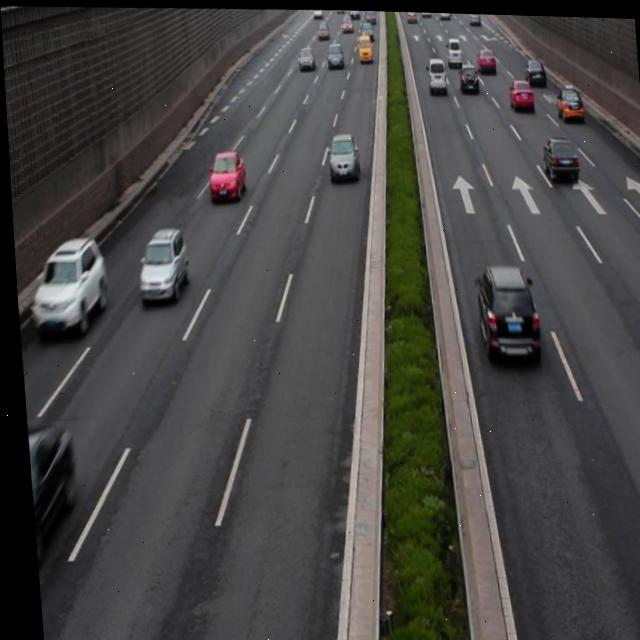car: (23, 232, 107, 337), (471, 260, 537, 359), (22, 423, 72, 544), (130, 224, 187, 304), (204, 147, 246, 204), (539, 131, 576, 182), (324, 129, 358, 180), (553, 82, 584, 120), (505, 73, 534, 111)
